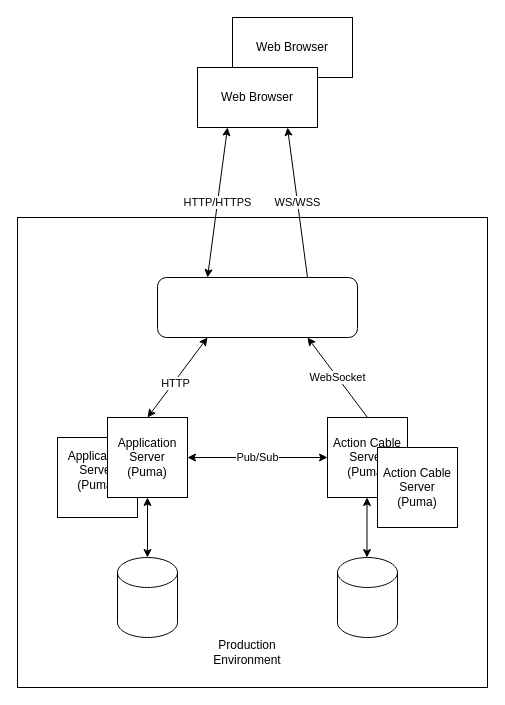
Some shapes in this 505 by 705 pixel diagram are drawn without their labels. Here are the shapes that lost their labels. From the top down, the centre of each, then its label:
At (x=257, y=307): "Nginx (Reverse Proxy and Load Balancer)".
At (x=147, y=597): "SQLite Database".
At (x=367, y=597): "Redis".
